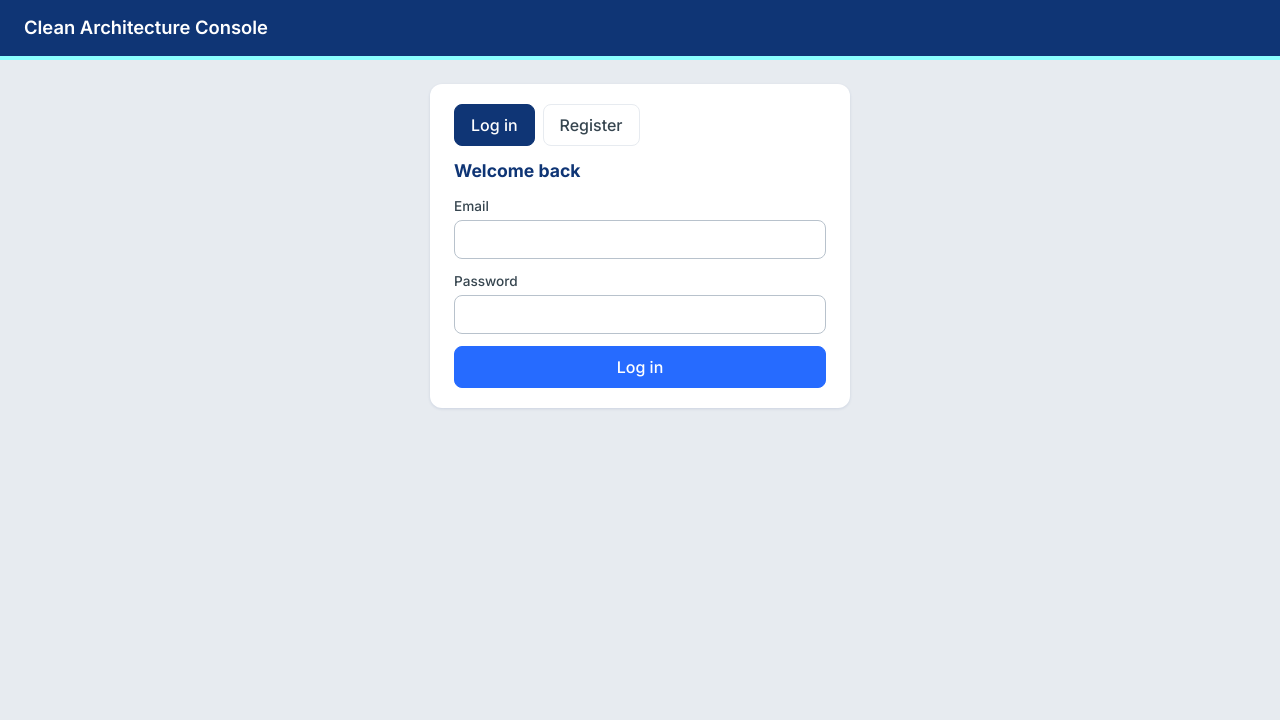
Test: register › mc07 a new user registers and is sent back to log in
The width and height of the screenshot is (1280, 720).
Click the tab "Register": [591, 125] box [542, 104, 640, 146]
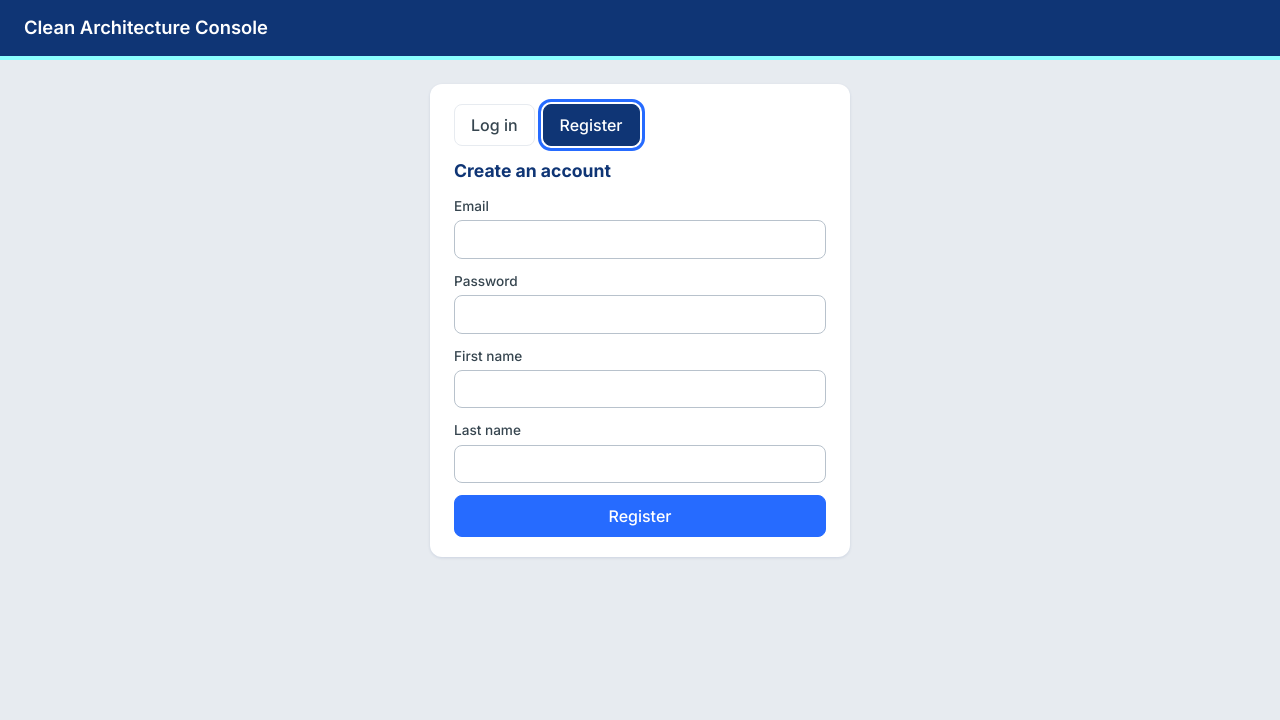
In the field labelled "Email": [640, 240] box [454, 220, 826, 259], type "new@example.com"
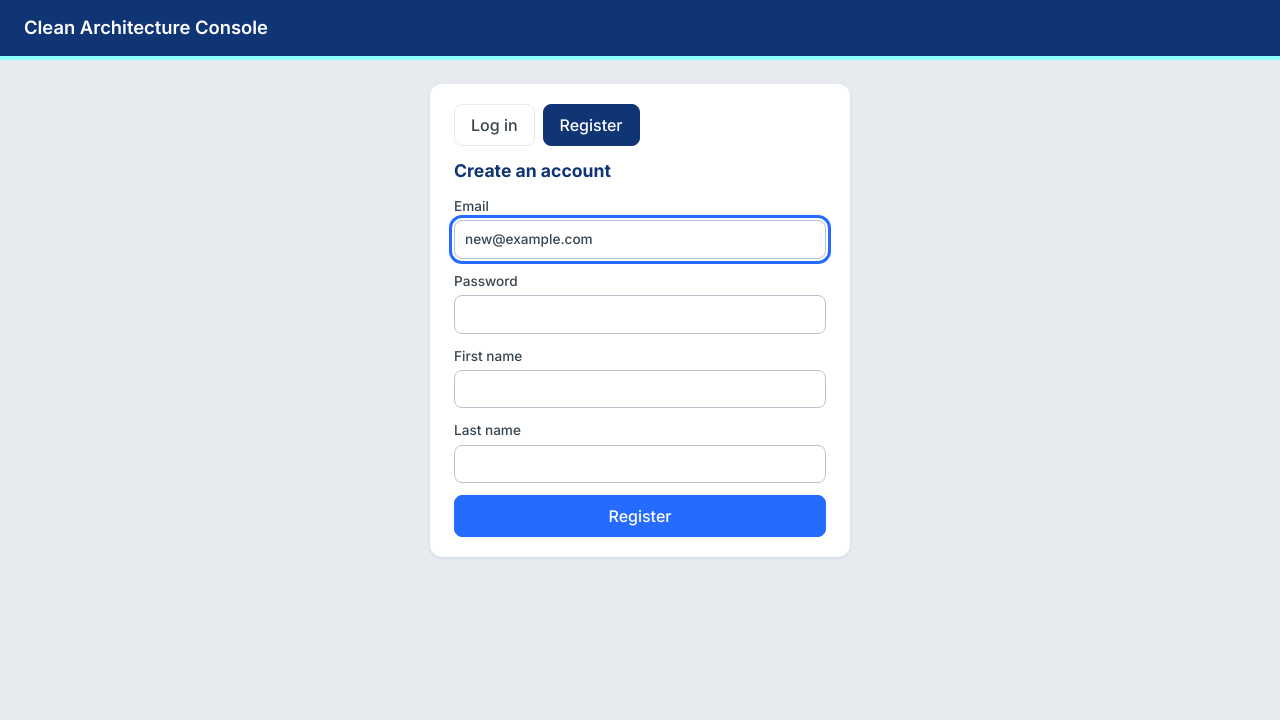
In the password field labelled "Password": [640, 314] box [454, 295, 826, 334], type "pw123456"
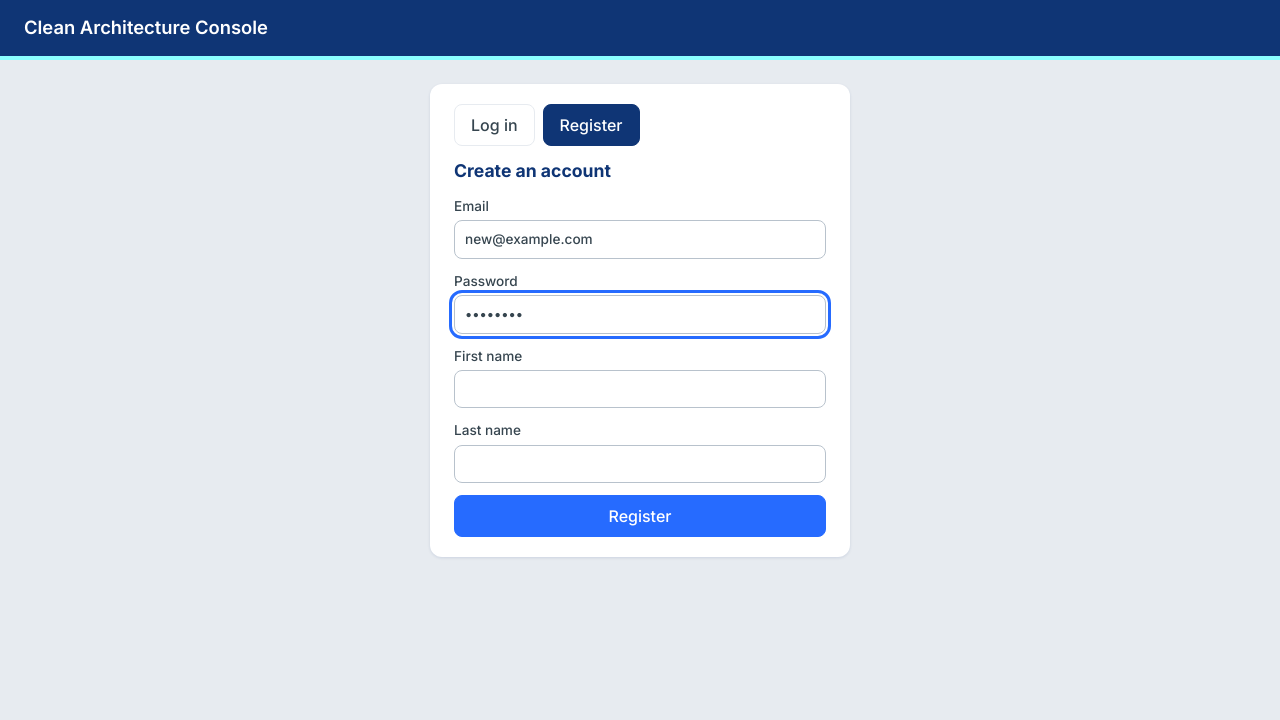
Click the button "Register": [640, 516] box [454, 495, 826, 537]
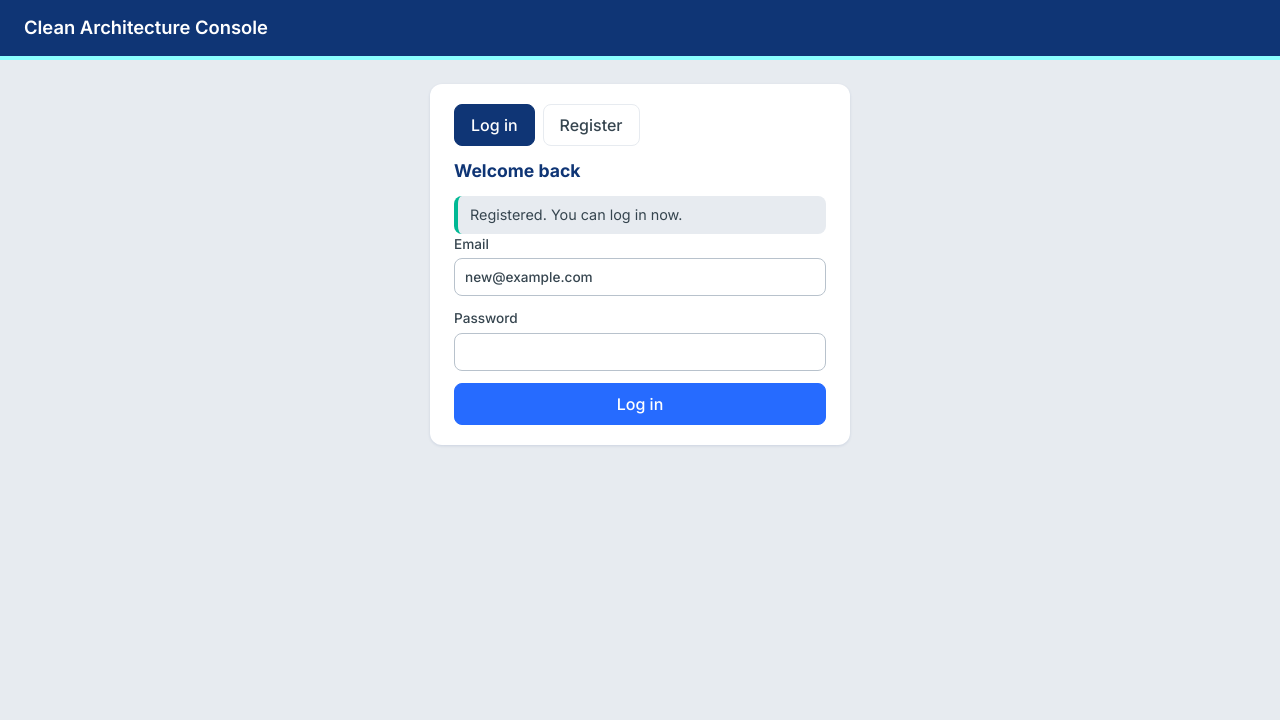
Now the message reads "Registered. You can log in now.", box [470, 206, 682, 223]
Now the heading "Welcome back" is shown, box [454, 160, 580, 181]
